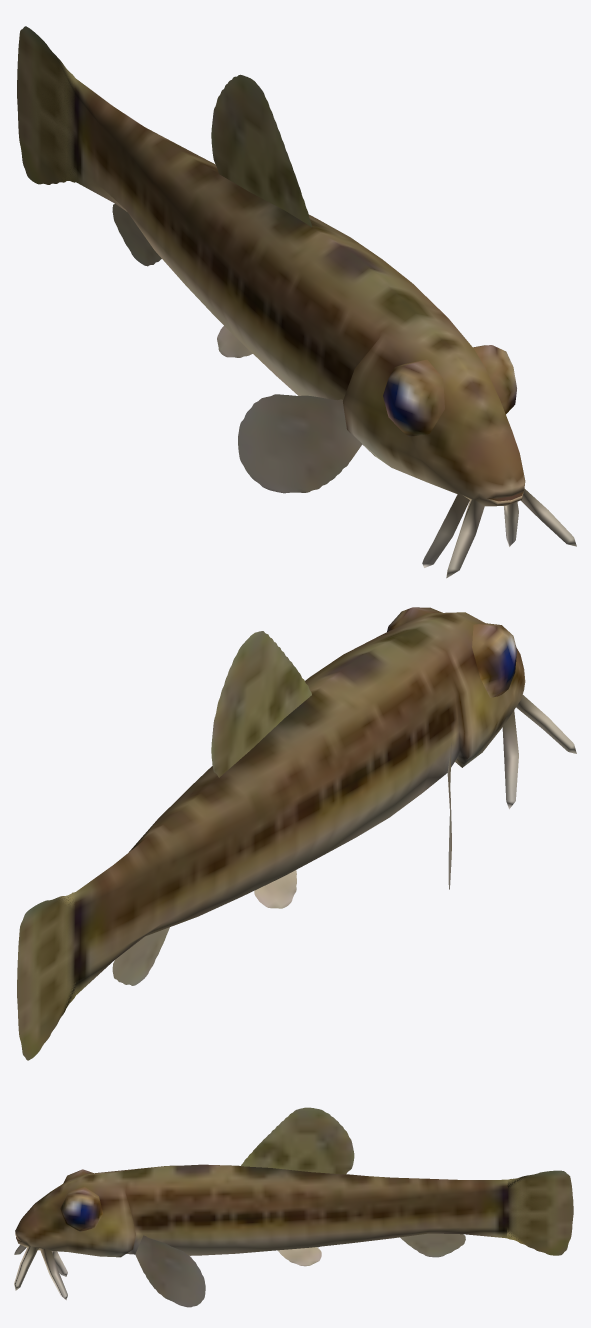
File: loach.glb
3 renders of one model, top to bottom at view 1: azimuth 30°, elevation 25°; view 2: azimuth 150°, elevation 25°; view 3: azimuth 270°, elevation 25°, orthographic. The views are drawn at different scales.
Size of the model in its own units: 1.41 by 2.01 by 5.51.
1 material, 1 textured.
